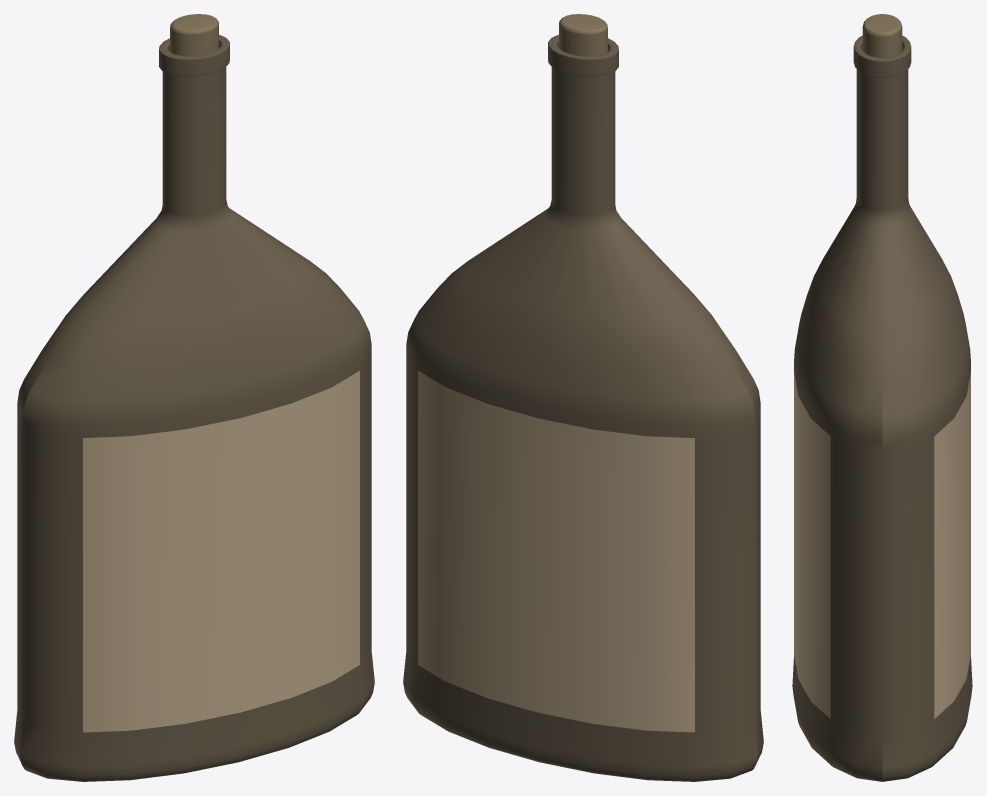
Rendered from brown_whiskey_bottle.fbx.
3 views of the same model, side by side, from view 1: azimuth 30°, elevation 25°; view 2: azimuth 150°, elevation 25°; view 3: azimuth 270°, elevation 25° (orthographic). The views are drawn at different scales.
Parts seen in each view (by area): view 1: whiskey_bottle; view 2: whiskey_bottle; view 3: whiskey_bottle.
Boxes of the visible parts, bbox=[...] form: whiskey_bottle: bbox=[14, 14, 374, 781]; whiskey_bottle: bbox=[403, 14, 763, 781]; whiskey_bottle: bbox=[792, 14, 972, 781].
Size of the model in its own units: 2.04 by 3.96 by 0.9487.
